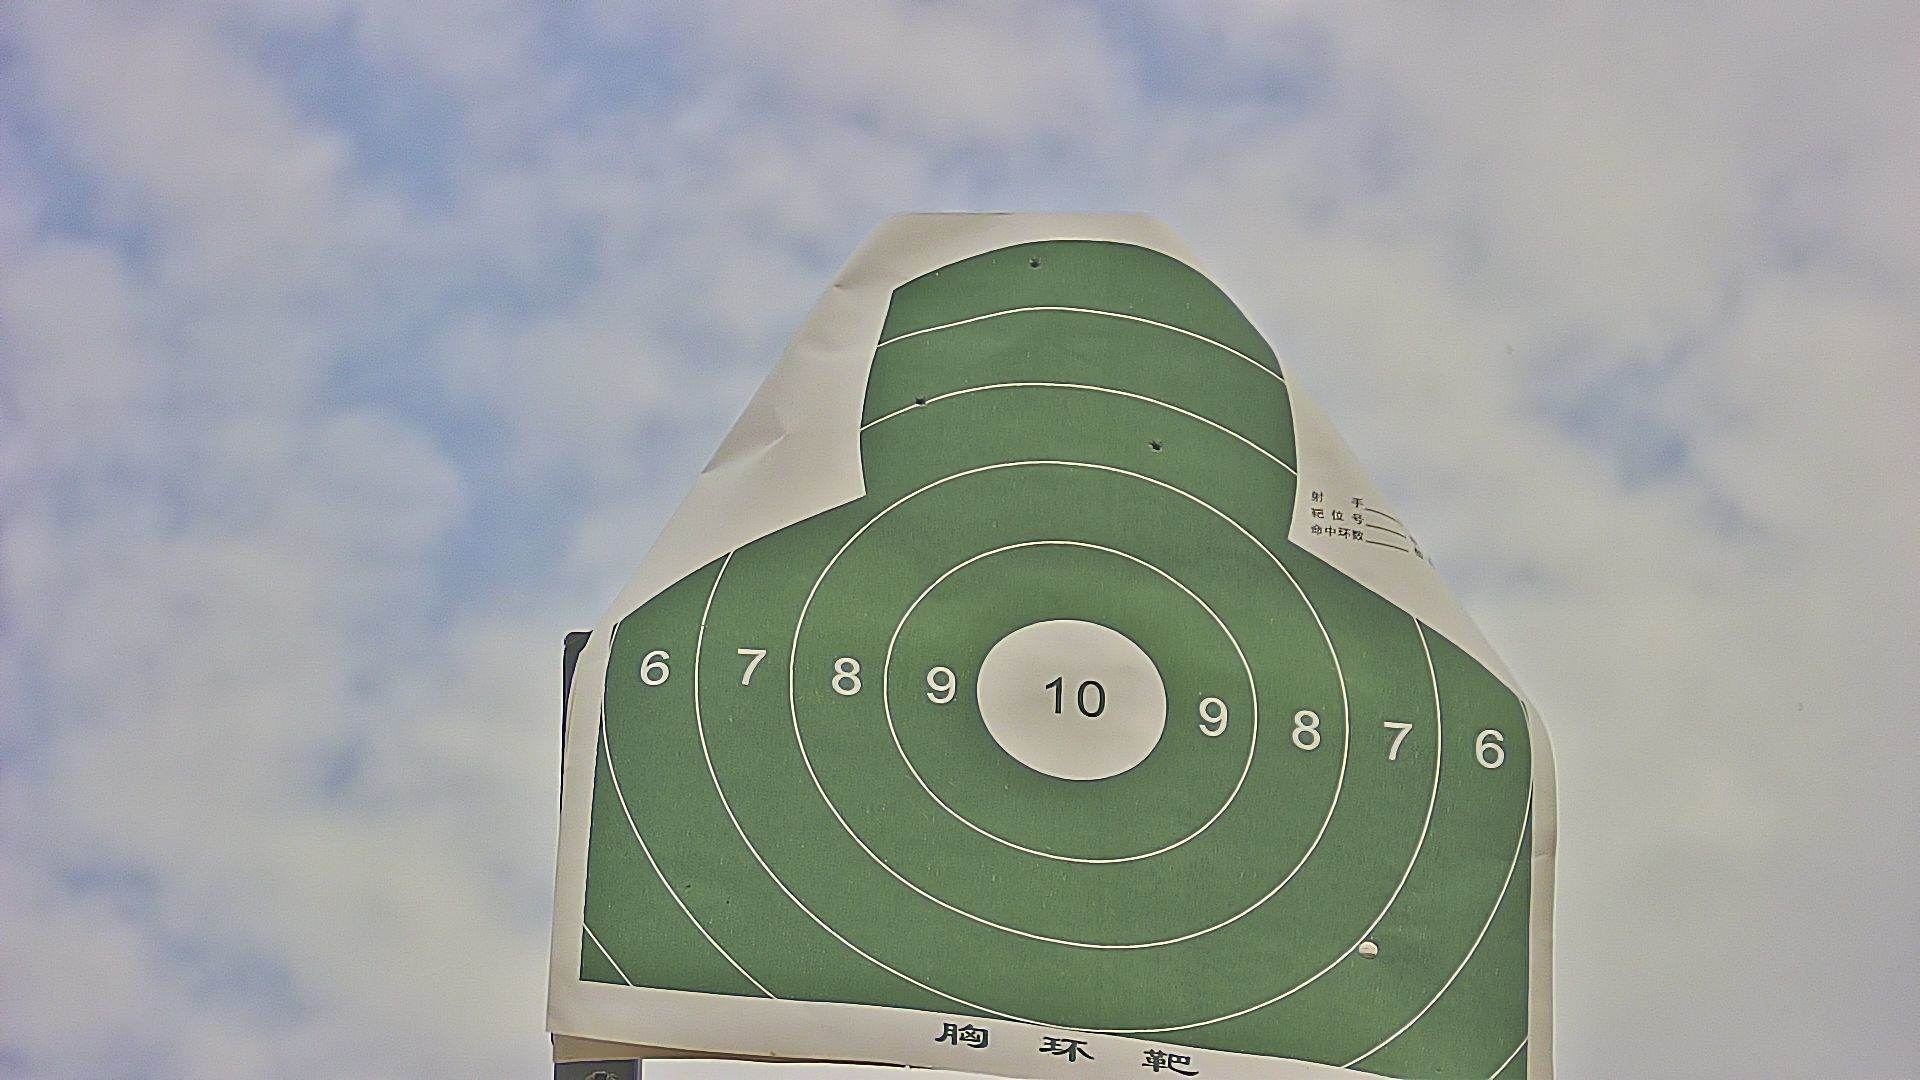hole: (1149, 438, 1164, 454), (1029, 258, 1042, 272), (913, 397, 928, 405)
target: (578, 244, 1540, 1080)
ten: (975, 618, 1168, 781)
